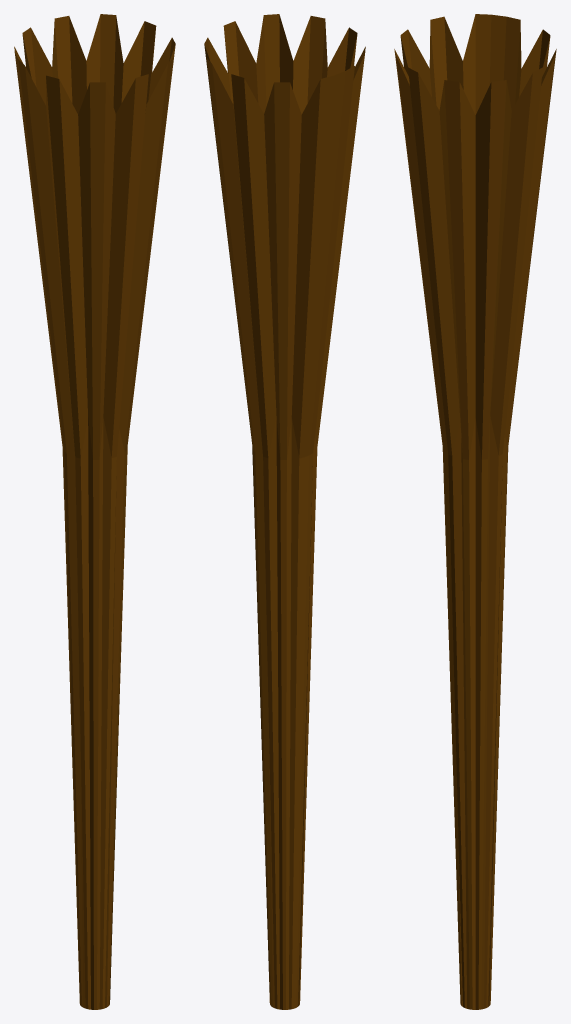
Rendered from AntorchaBase.fbx.
The picture shows the model from 3 angles, left to right: view 1: azimuth 30°, elevation 25°; view 2: azimuth 150°, elevation 25°; view 3: azimuth 270°, elevation 25°; orthographic projection.
Parts seen in each view (by area): view 1: Cylinder; view 2: Cylinder; view 3: Cylinder.
Part boxes in pixels (x1=…): Cylinder: x1=14, y1=14, x2=175, y2=1009; Cylinder: x1=204, y1=14, x2=365, y2=1009; Cylinder: x1=394, y1=14, x2=556, y2=1009.
Size of the model in its own units: 31.84 by 209 by 32.15.
